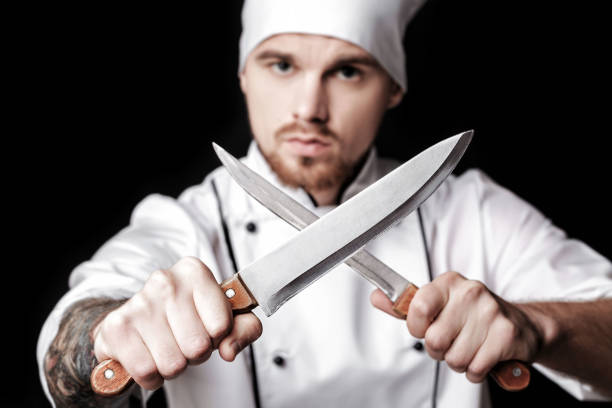knife: (88, 127, 477, 401), (210, 140, 532, 392)
